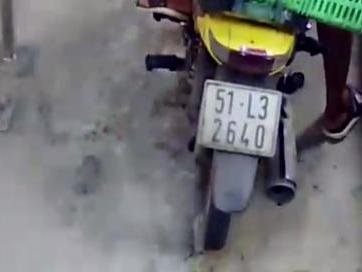num_plate: (192, 79, 283, 159)
